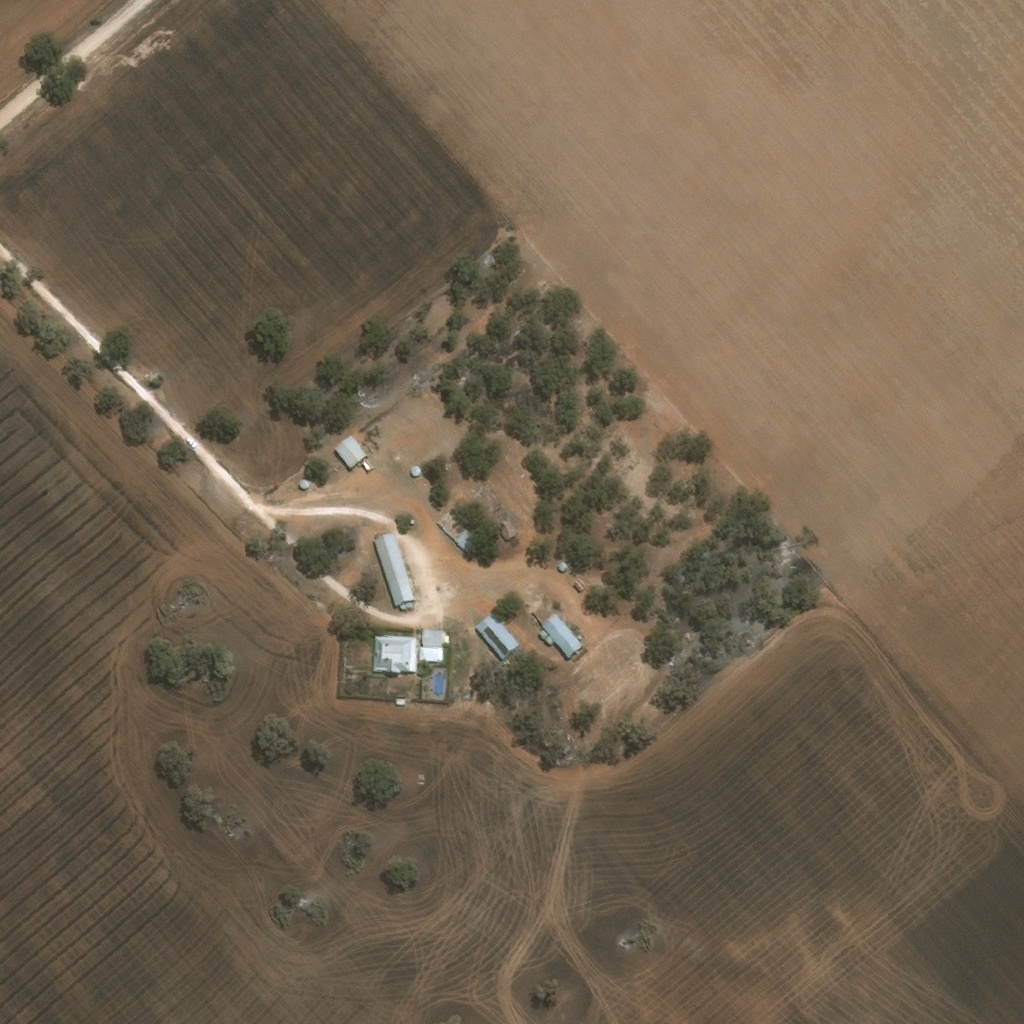0 no-damage: (374, 532, 416, 606), (475, 611, 520, 662), (436, 509, 484, 556), (541, 612, 584, 658), (372, 634, 418, 673), (334, 433, 368, 469), (423, 628, 443, 647), (419, 646, 443, 661), (539, 627, 555, 645), (573, 577, 588, 591), (409, 464, 422, 476), (399, 600, 414, 610), (558, 561, 568, 571), (442, 634, 450, 644), (394, 700, 404, 706)
2 major-damage: (468, 485, 519, 544)
4 un-classified: (390, 411, 402, 423), (403, 457, 415, 468), (312, 473, 323, 484), (416, 476, 428, 486)
